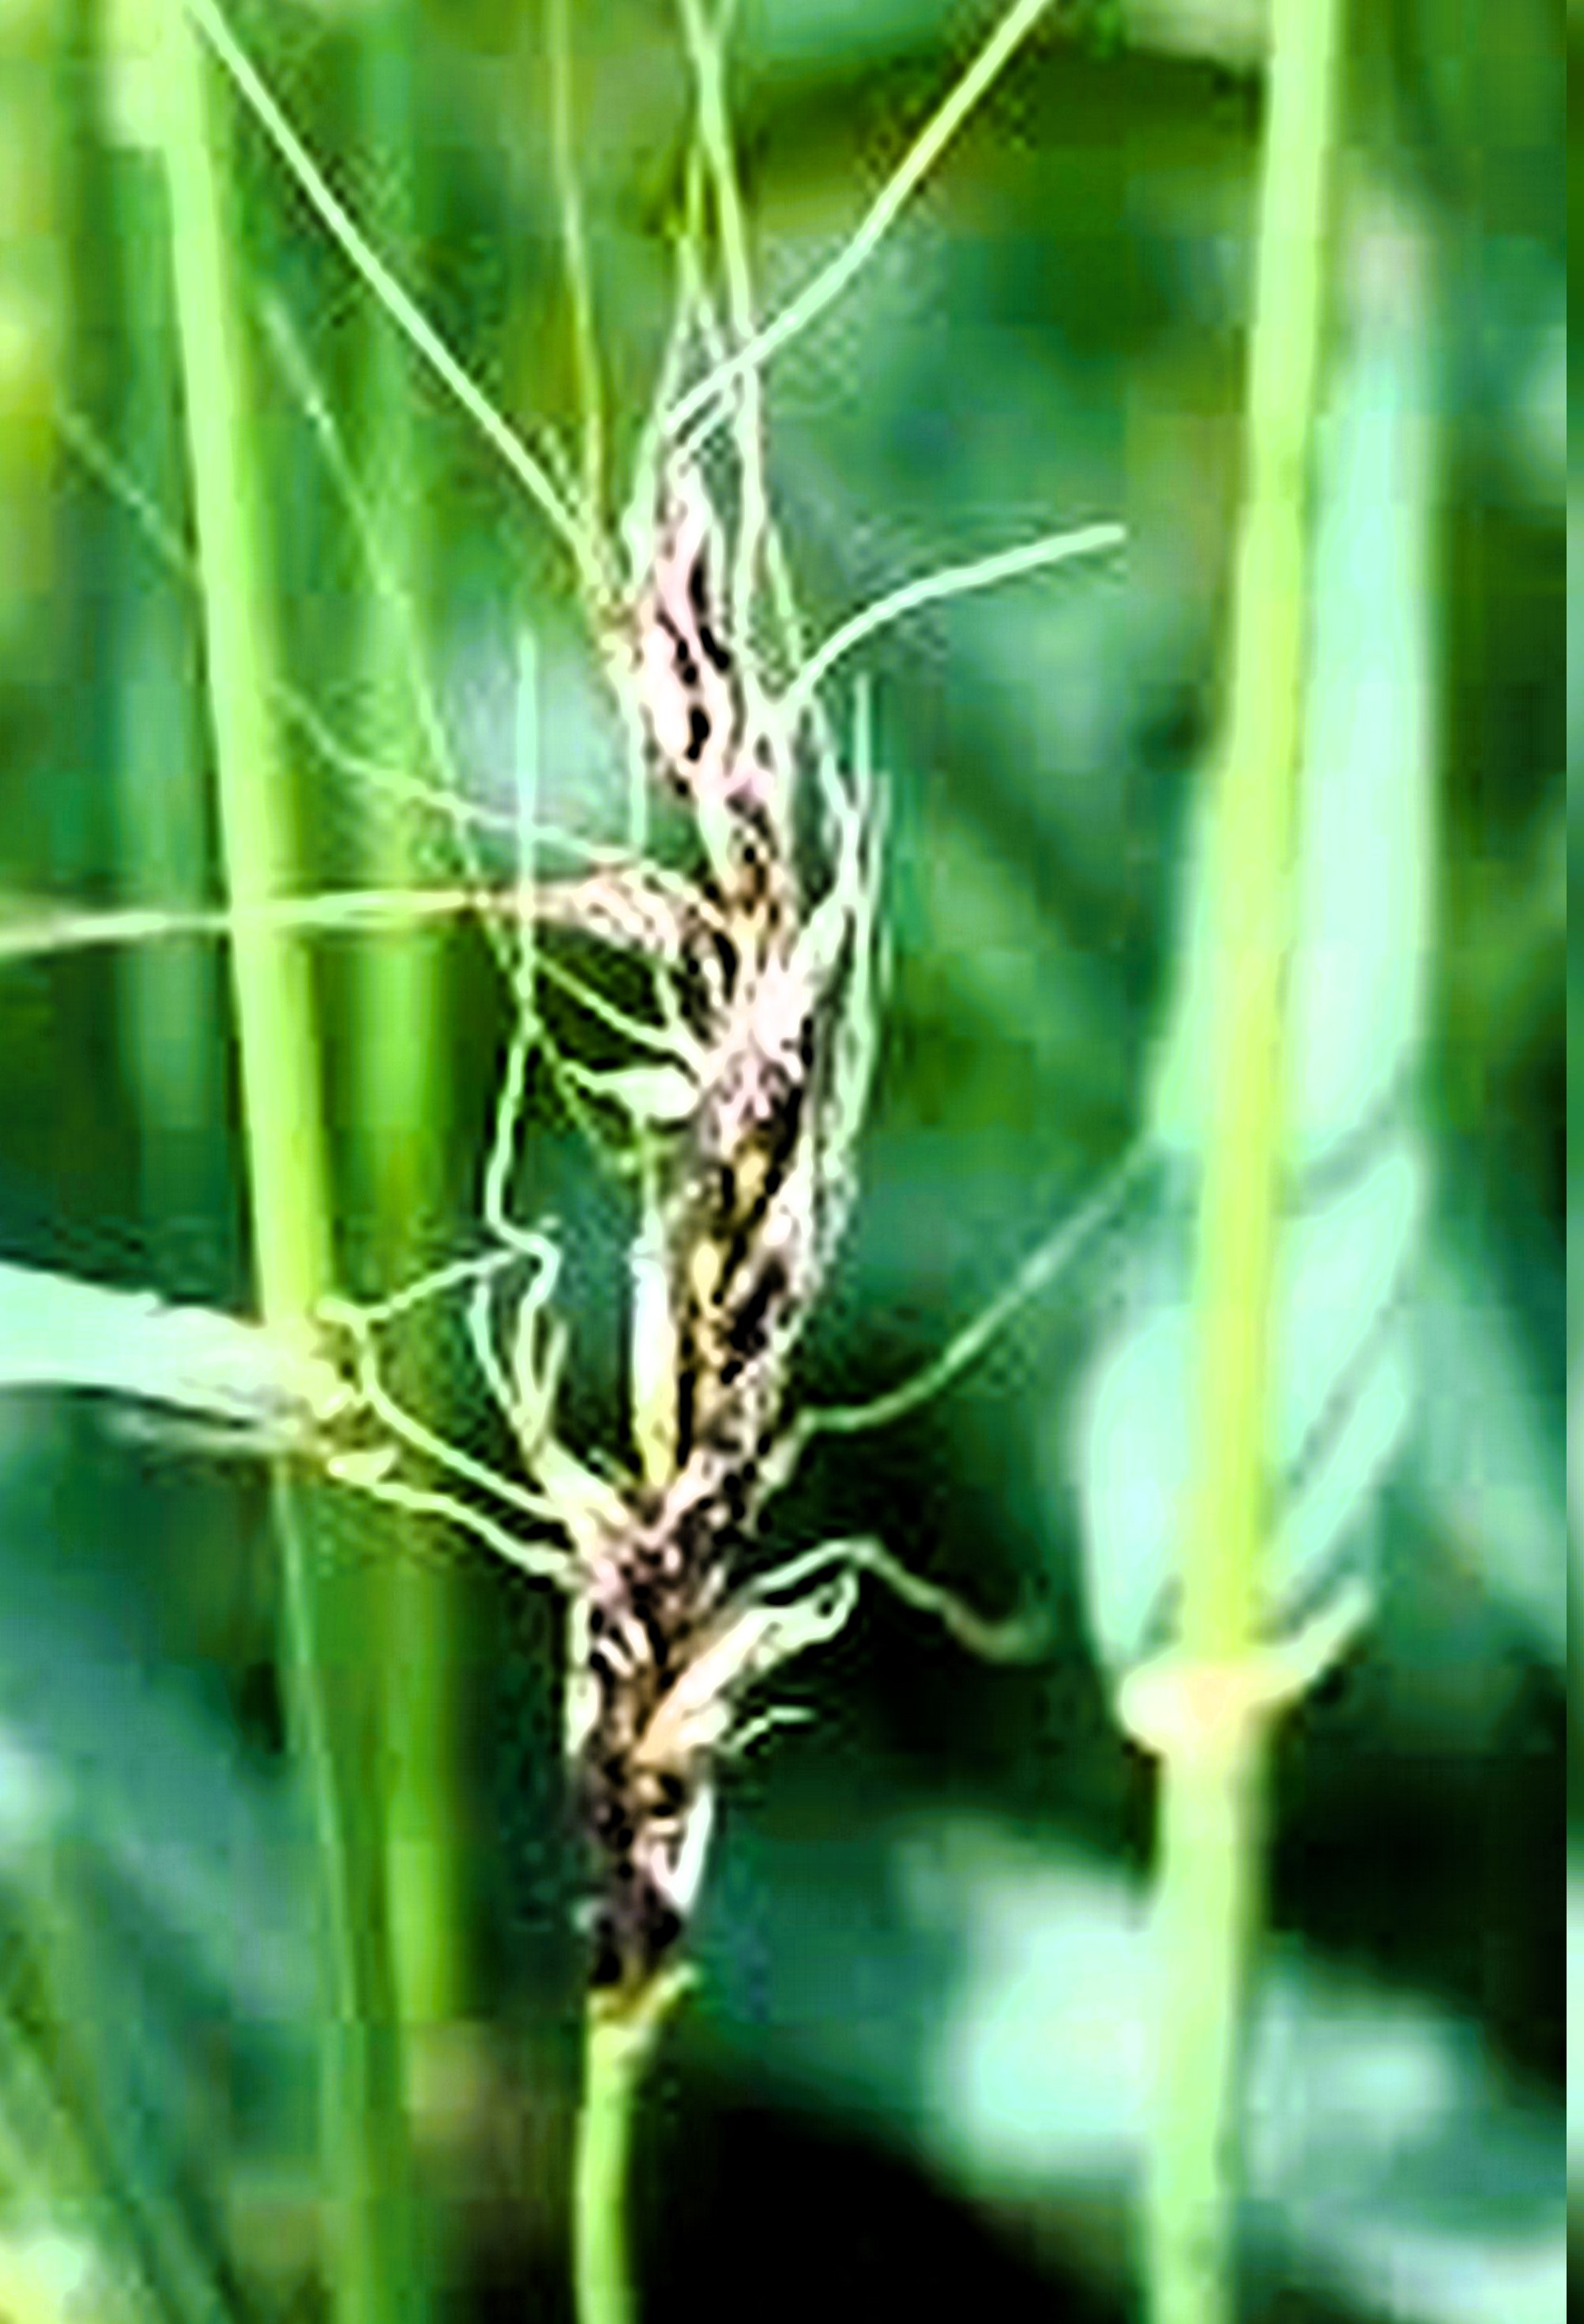Wheat Loose Smut: (404, 433, 941, 1888)
